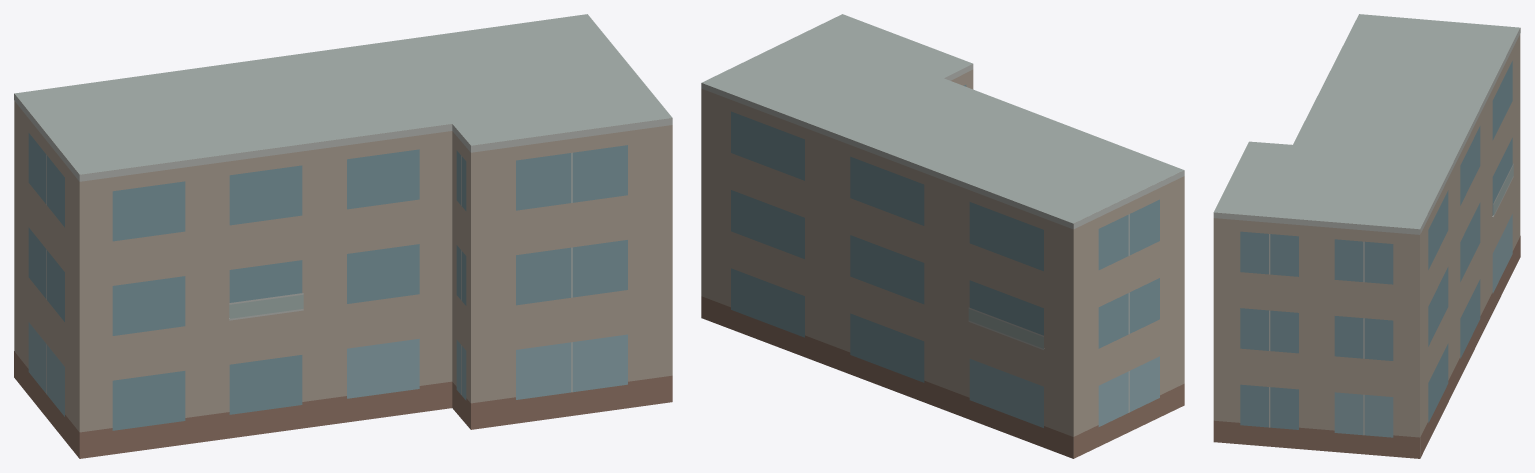
The model's file is survey-upis-32906262.glb.
3 renders of one model, left to right at view 1: azimuth 30°, elevation 25°; view 2: azimuth 150°, elevation 25°; view 3: azimuth 270°, elevation 25°, orthographic. The views are drawn at different scales.
Visible parts, largest first — view 1: survey-upis-32906262.tmp; view 2: survey-upis-32906262.tmp; view 3: survey-upis-32906262.tmp.
Part boxes in pixels (box(x1,y1,x2,y2)): survey-upis-32906262.tmp: box(14, 14, 672, 458); survey-upis-32906262.tmp: box(701, 14, 1184, 458); survey-upis-32906262.tmp: box(1213, 14, 1520, 458).
Bounding box in the file's own units: 19.91 × 9.9 × 12.
